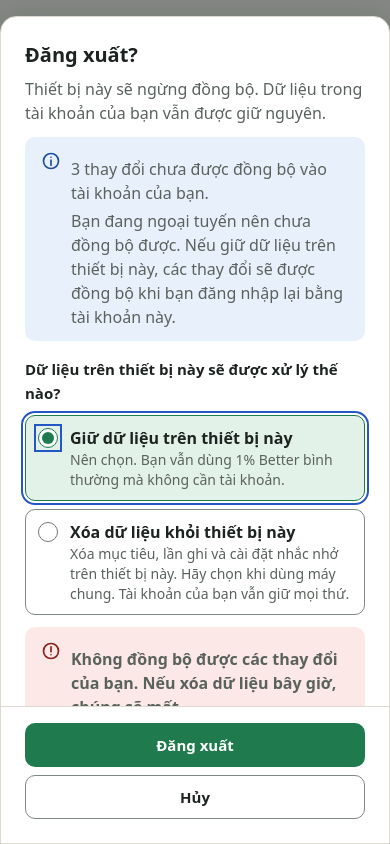
SignOutDialog — M7 unsynced warning, Remove anyway (FR-41, M7-AC12, M7-AC15) › vi: warning (offline), remove note and Remove anyway have no English leaks
The width and height of the screenshot is (390, 844).
Click the radio button labelled "Xóa dữ liệu khỏi thiết bị này" at point(48, 532), box [38,522,58,542]
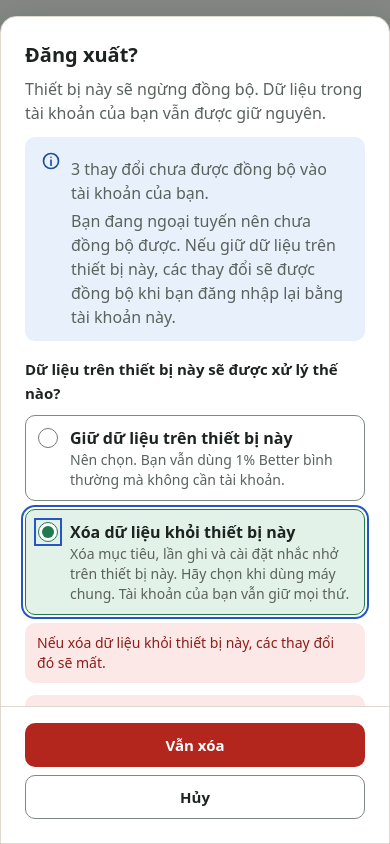
Now the message with test id "unsynced-remove" reads "Nếu xóa dữ liệu khỏi thiết bị này, các thay đổi đó sẽ mất.", box [37,633,334,672]
Now the button with test id "signout-confirm" reads "Vẫn xóa", box [25,723,365,767]
